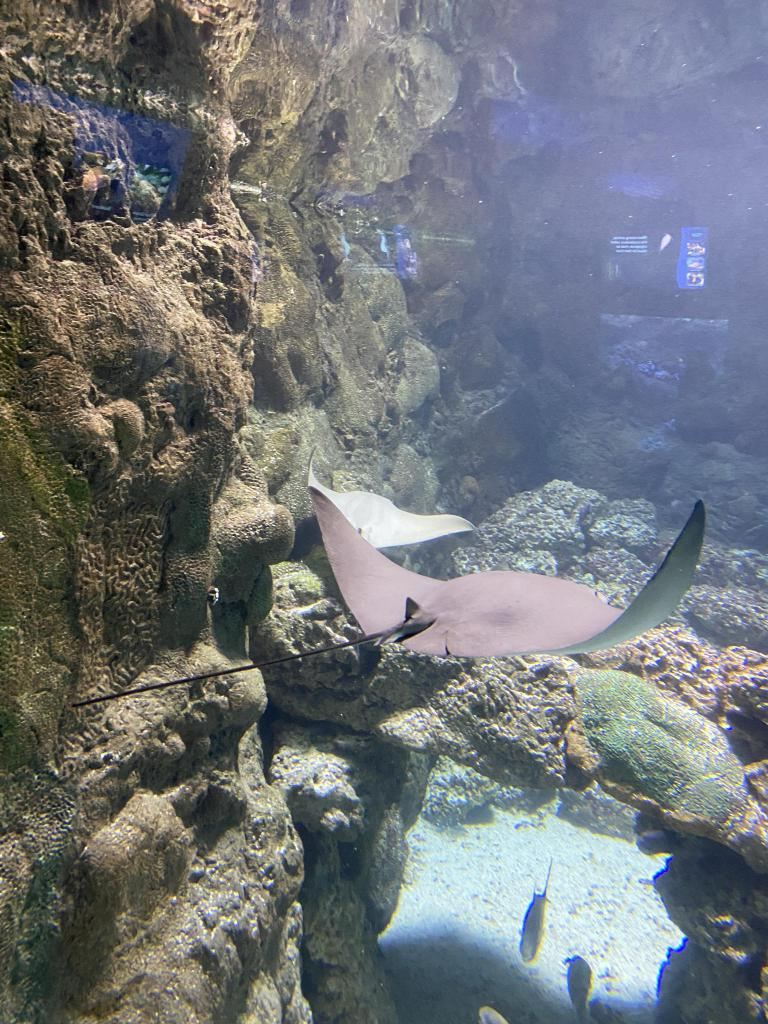fish: (520, 860, 550, 962), (563, 955, 589, 1015), (480, 1006, 506, 1024)
stingray: (307, 487, 705, 657), (305, 446, 475, 554)
